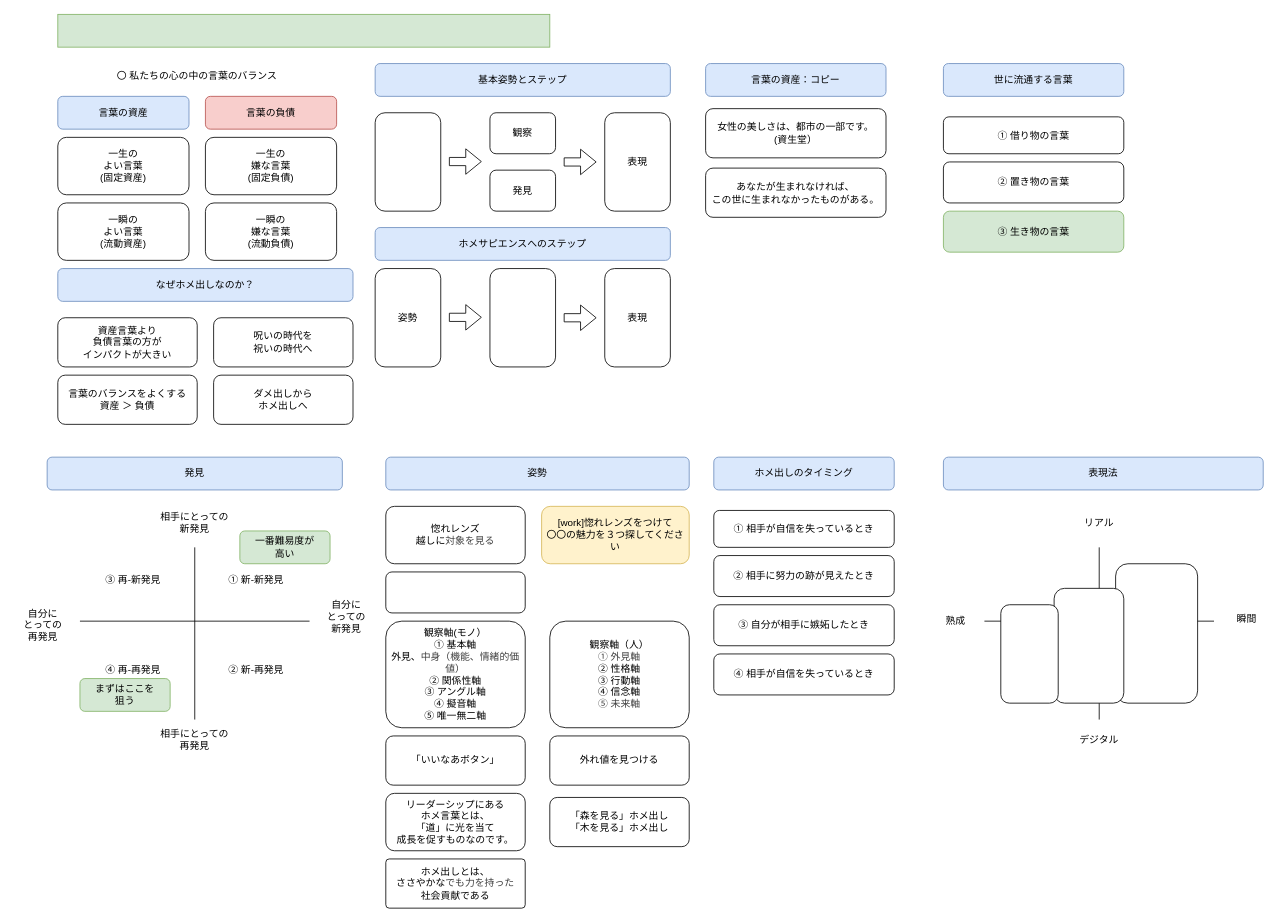
This 1285x923 diagram has some shape labels left out. Each missing label, with the centre of its shape:
"キーワード 系" goes at point 1029,653.
"コピーライター式 ホメ出しの技術 わたしの言葉から世界はよくなる" goes at point 303,30.
"ストレート系" goes at point 1156,633.
"惚れる" goes at point 407,161.
"着眼点" goes at point 522,317.
"表現系" goes at point 1088,645.
"３つのI I ｘ 愛 ＝ アイデア" goes at point 455,592.
